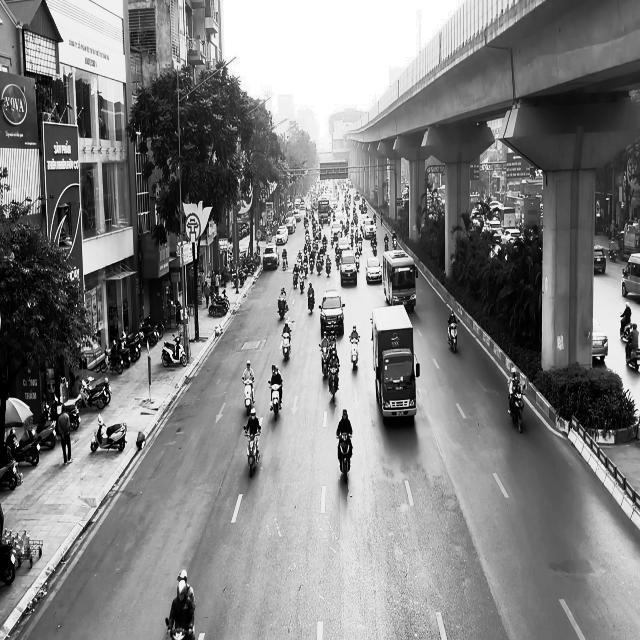bus: (382, 249, 418, 312)
car: (592, 317, 608, 362), (593, 244, 606, 274)
motorbike: (90, 413, 127, 452), (243, 425, 261, 477), (508, 382, 526, 433), (166, 614, 196, 640), (337, 433, 352, 483), (268, 380, 282, 420), (242, 377, 255, 415), (328, 365, 340, 403), (348, 335, 359, 370), (447, 318, 458, 353), (278, 294, 288, 320)
truck: (370, 304, 420, 422)
